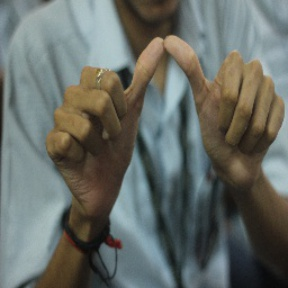A: (60, 31, 270, 142)
